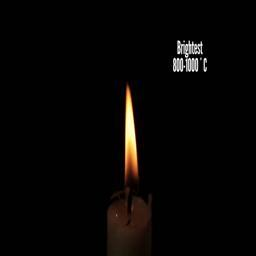fire: (123, 85, 139, 176)
